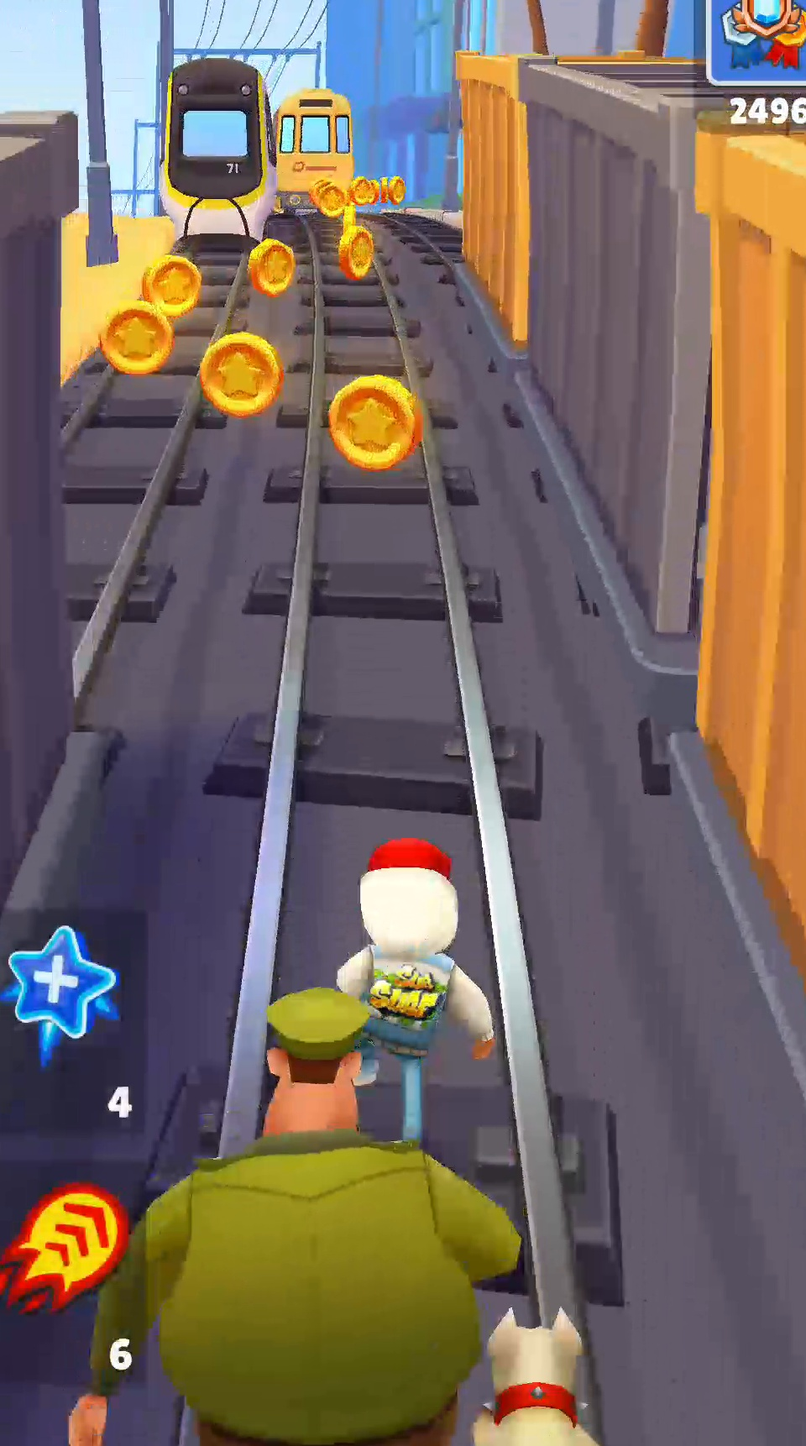police: (69, 988, 520, 1445)
train: (458, 54, 805, 924), (0, 113, 76, 897), (164, 59, 279, 244), (275, 89, 354, 211)
